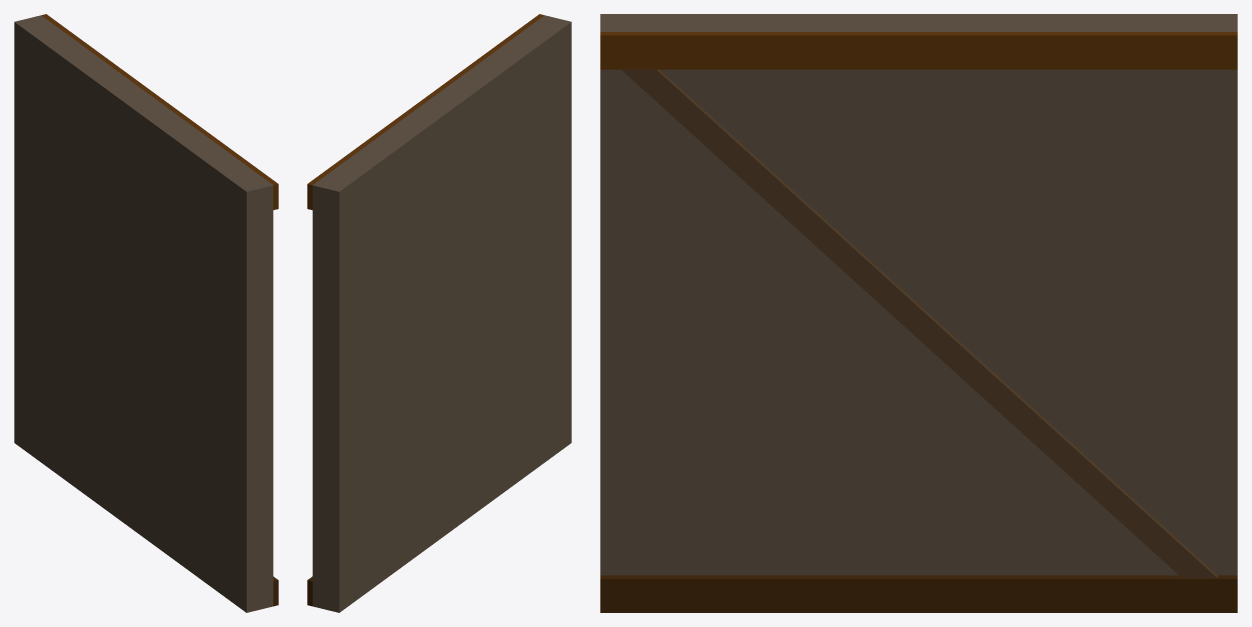
File: Wall.fbx
The picture shows the model from 3 angles, left to right: view 1: azimuth 30°, elevation 25°; view 2: azimuth 150°, elevation 25°; view 3: azimuth 270°, elevation 25°; orthographic projection. The views are drawn at different scales.
Parts seen in each view (by area): view 1: Wall; view 2: Wall; view 3: Wall.
Boxes of the visible parts, x1,y1,x2,y2 form: Wall: [14, 14, 278, 612]; Wall: [307, 14, 571, 612]; Wall: [600, 14, 1237, 612].
Size of the model in its own units: 0.2392 by 3 by 3.
